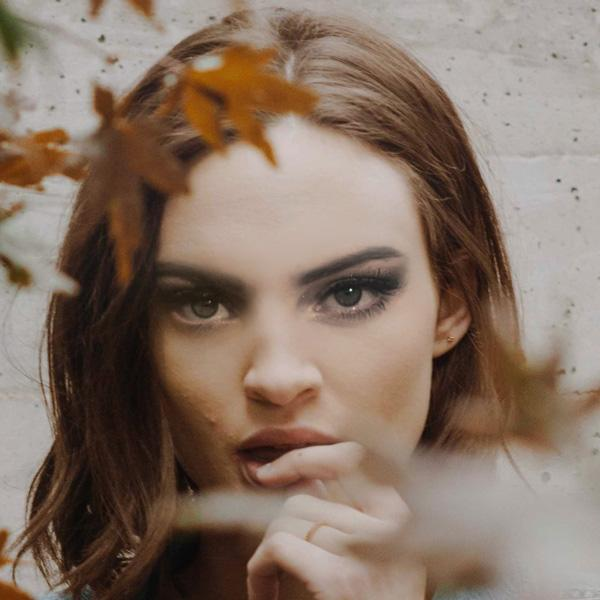Eyes: (302, 263, 406, 322), (152, 281, 244, 335)
